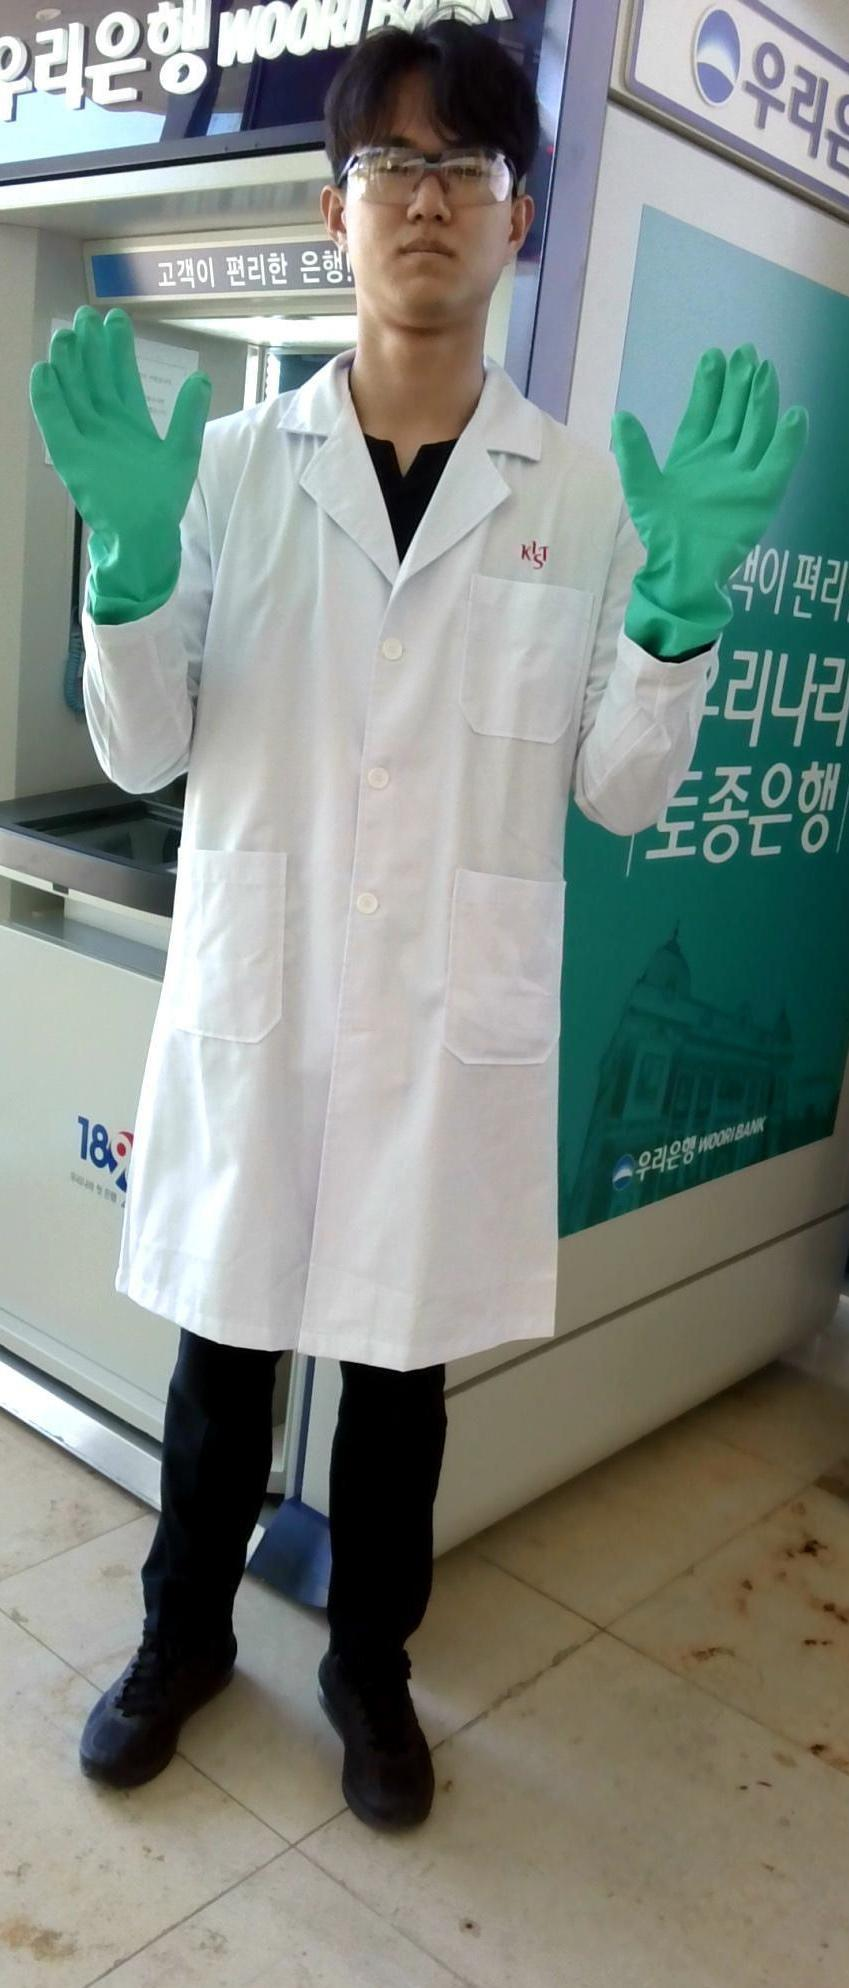lab_coat: (203, 446, 606, 1324)
